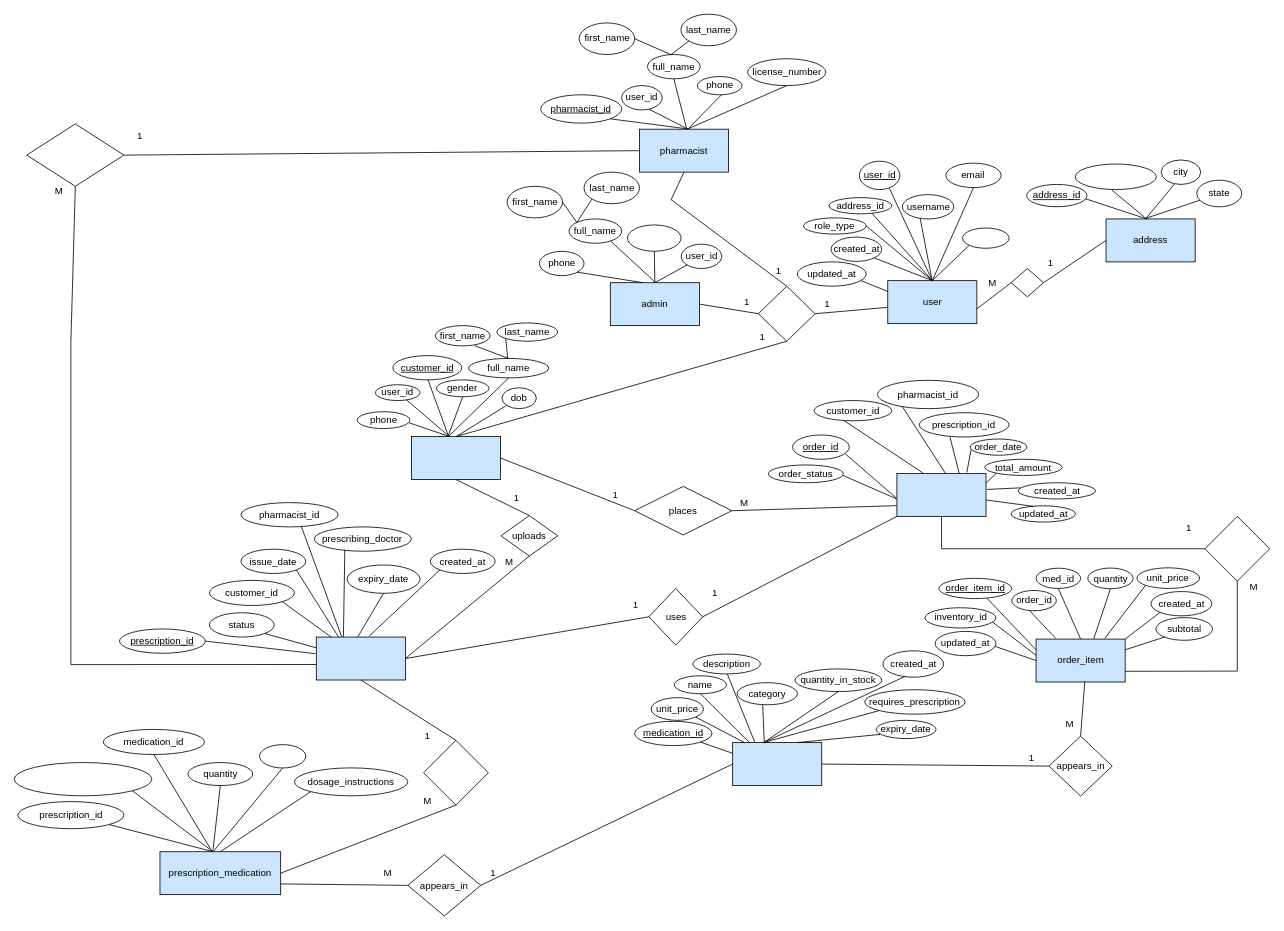
Image size: 1284x931. Some labels were removed from this diagram. Here are the shapes that lost their labels. From the top down, the box of each, then its label:
(26, 123, 124, 186): reviews/processes
(1074, 163, 1156, 190): street_address
(627, 224, 681, 251): admin_id
(962, 227, 1009, 248): password
(1010, 268, 1044, 297): has
(758, 285, 815, 341): has_role
(411, 436, 500, 480): patient/customer
(896, 473, 986, 516): order
(1204, 516, 1270, 581): contains
(315, 636, 405, 680): prescription
(259, 744, 306, 768): duration
(423, 740, 488, 805): consists_of
(732, 742, 822, 786): medication
(13, 762, 152, 796): prescription_medication_id
